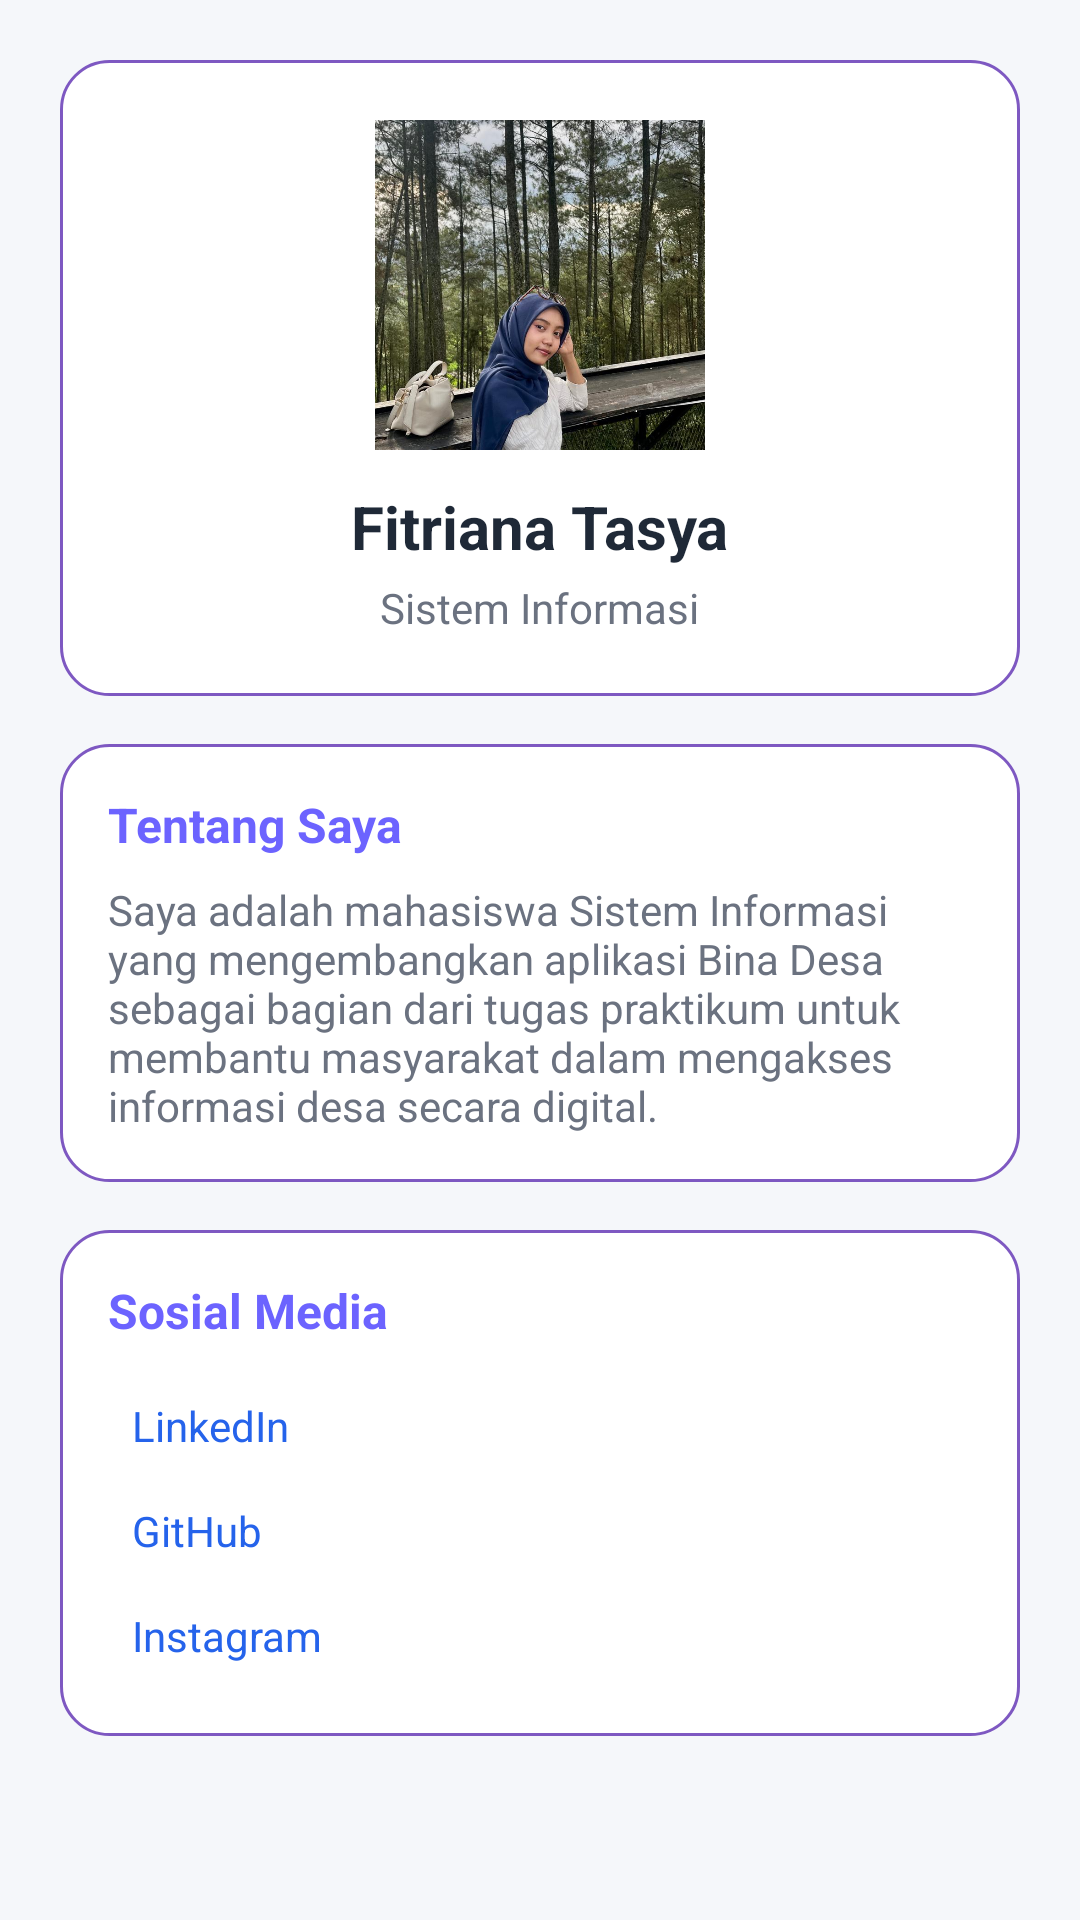

Icon bounding boxes for this 1080×1920 phone screenshot, format (x1,y1,x2,y2):
profileku: (375,120,705,450)
